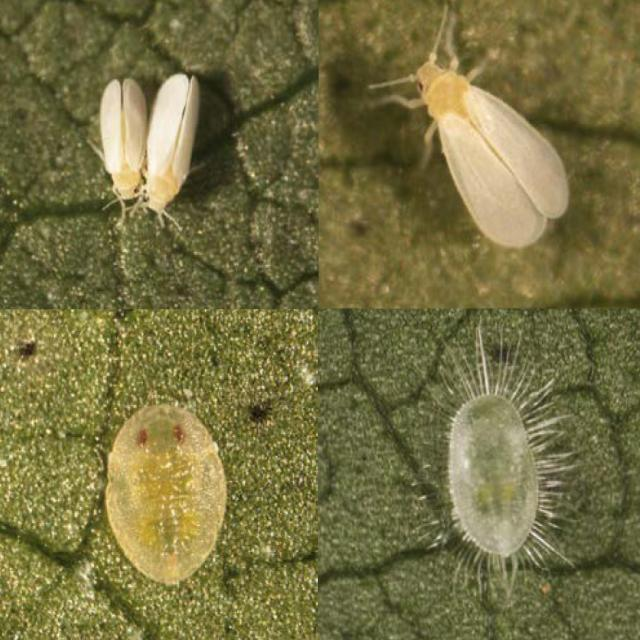Whiteflies: (391, 40, 596, 262), (140, 65, 227, 246), (83, 59, 153, 205)
